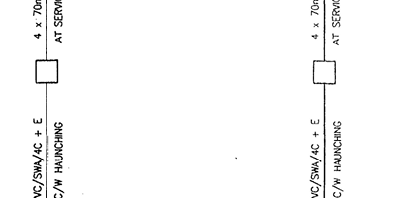Cable Termination Box: (306, 53, 349, 98), (31, 54, 72, 92)
